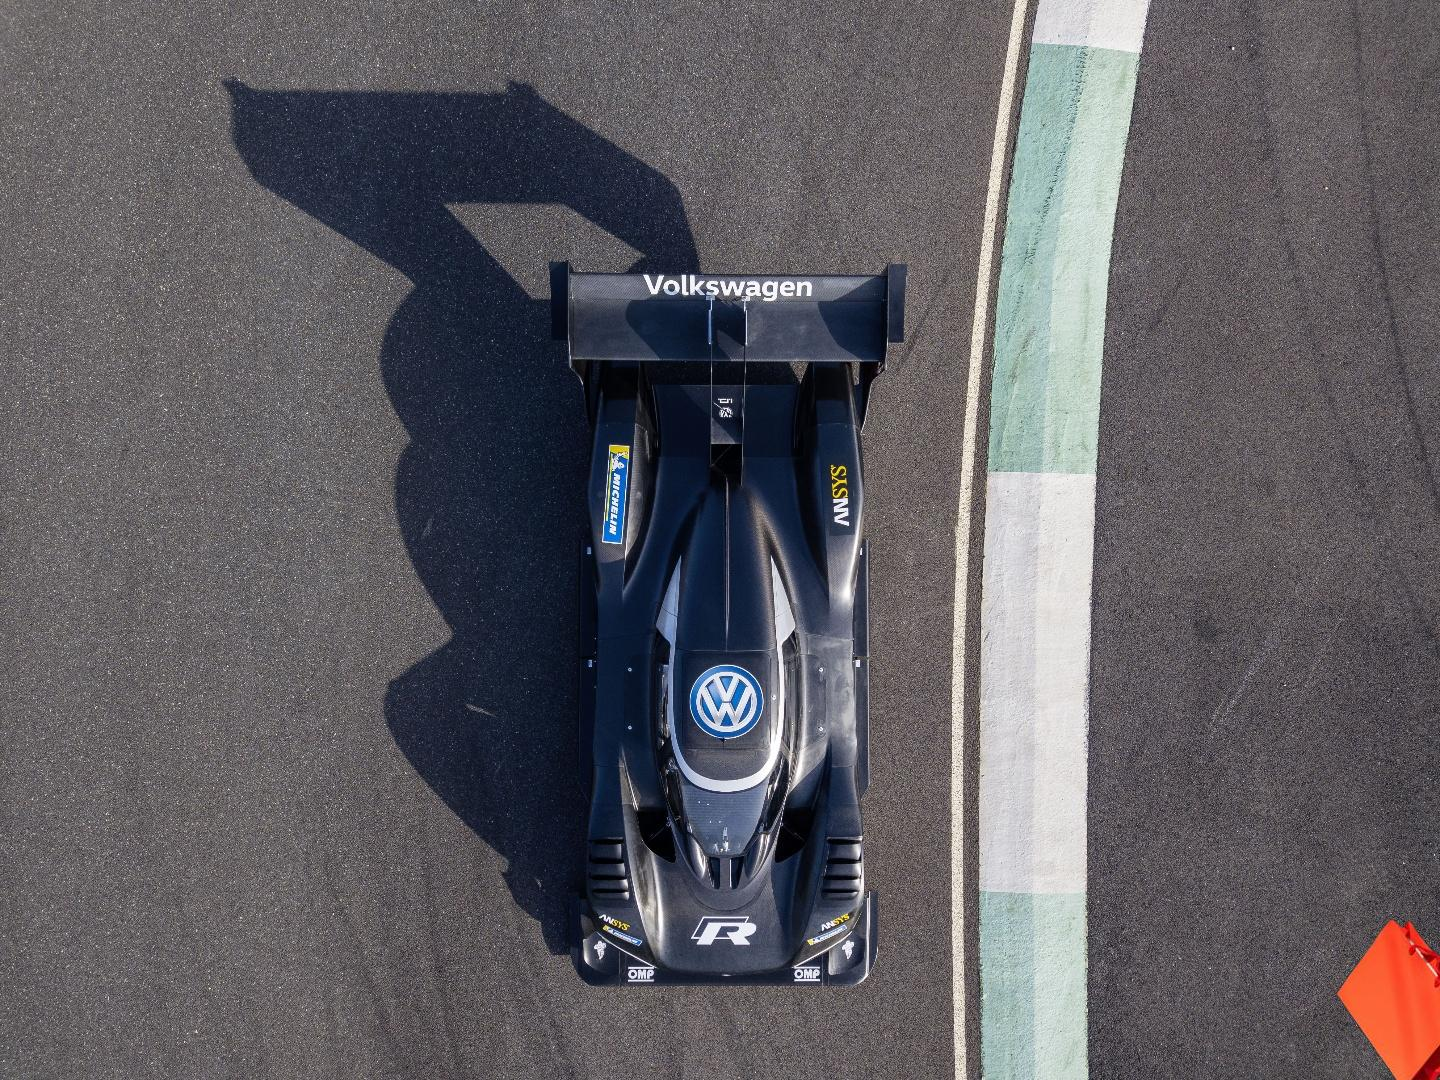paper-bag: (1335, 916, 1440, 1080)
